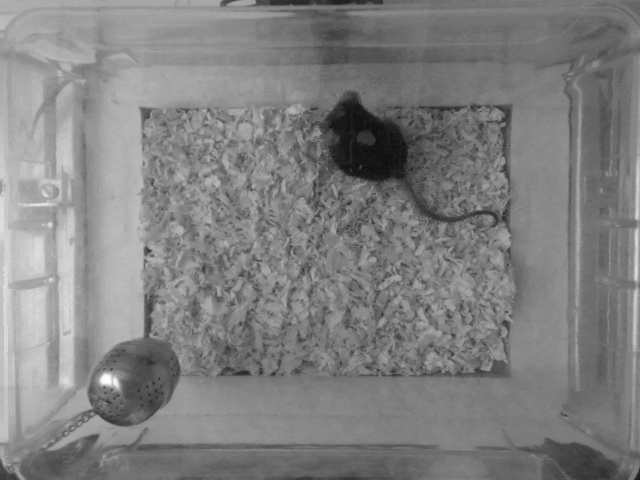mice: (320, 81, 503, 227)
